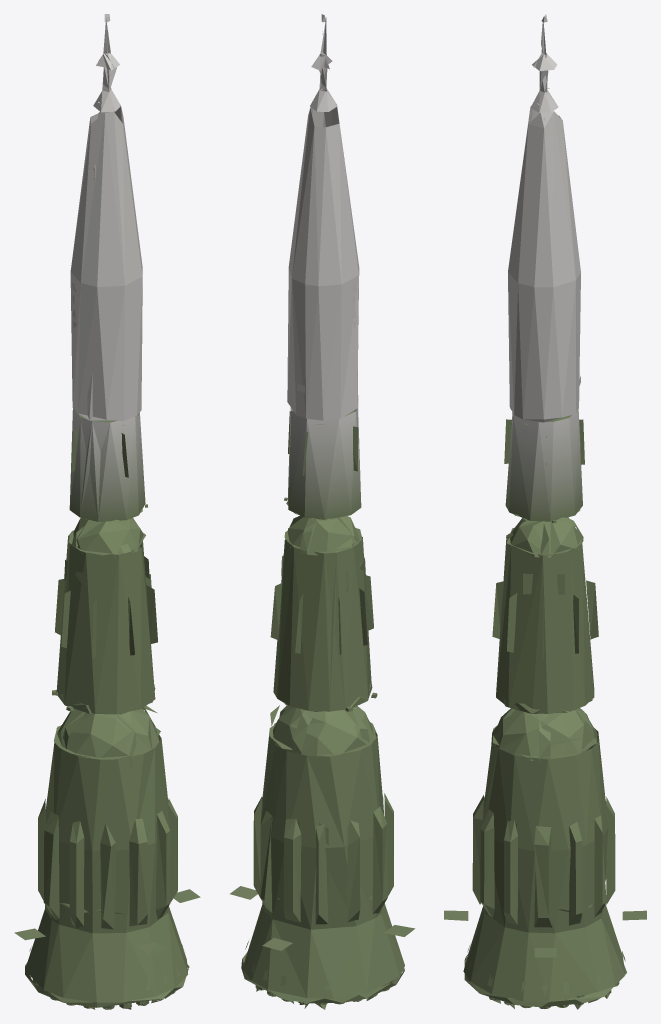
3 views of the same model, side by side, from view 1: azimuth 30°, elevation 25°; view 2: azimuth 150°, elevation 25°; view 3: azimuth 270°, elevation 25° (orthographic).
Parts seen in each view (by area): view 1: Object_3; view 2: Object_3; view 3: Object_3.
Part boxes in pixels (left/top/right/bottom): Object_3: left=14, top=14, right=200, bottom=1009; Object_3: left=230, top=14, right=415, bottom=1009; Object_3: left=444, top=14, right=646, bottom=1009.
Bounding box in the file's own units: 19.84 × 105 × 19.84.
